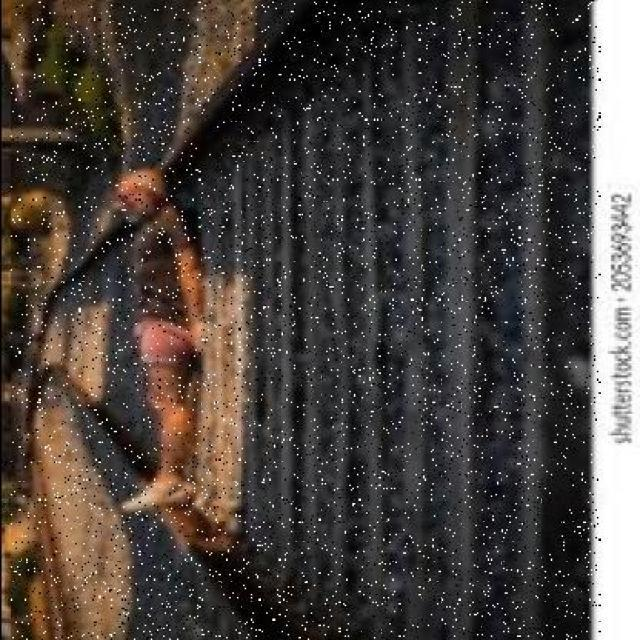danger: (108, 154, 198, 516)
rail: (10, 2, 598, 640)
